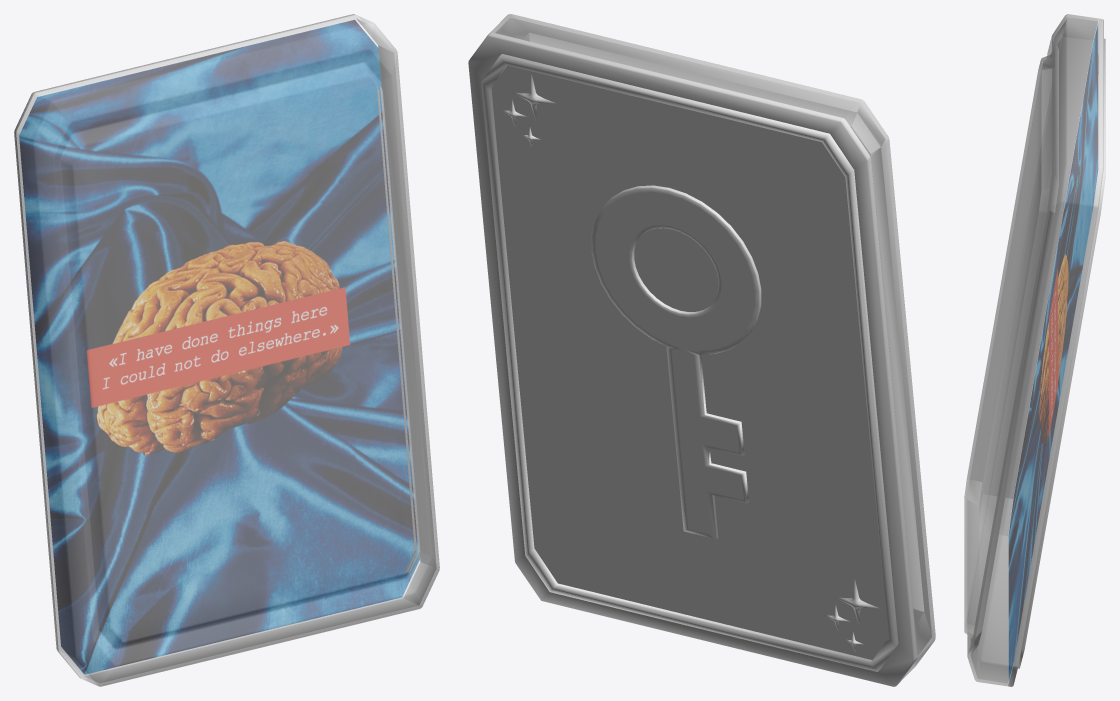
Rendered from medaillon_WebGL02.glb.
The picture shows the model from 3 angles, left to right: view 1: azimuth 30°, elevation 25°; view 2: azimuth 150°, elevation 25°; view 3: azimuth 270°, elevation 25°; orthographic projection. The views are drawn at different scales.
Visible parts, largest first — view 1: DisplayCase; view 2: DisplayCase; view 3: DisplayCase.
Boxes of the visible parts, x1,y1,x2,y2 form: DisplayCase: (14, 14, 439, 686); DisplayCase: (468, 14, 935, 686); DisplayCase: (964, 14, 1105, 686).
Bounding box in the file's own units: 1.37 × 2 × 0.4881.
Materials: 3 (1 with a texture image).
